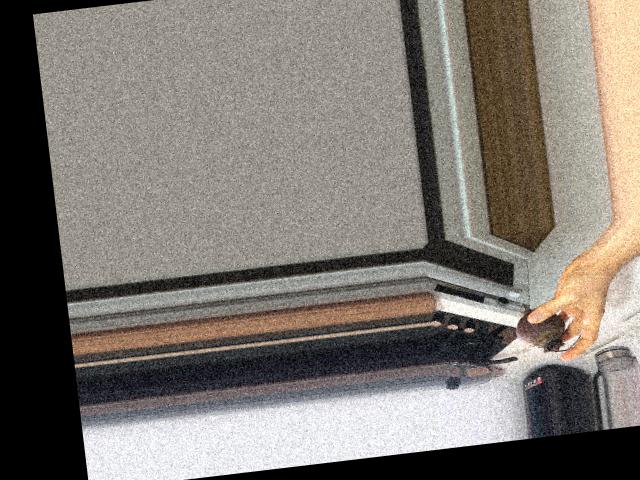beet: (512, 295, 581, 355)
